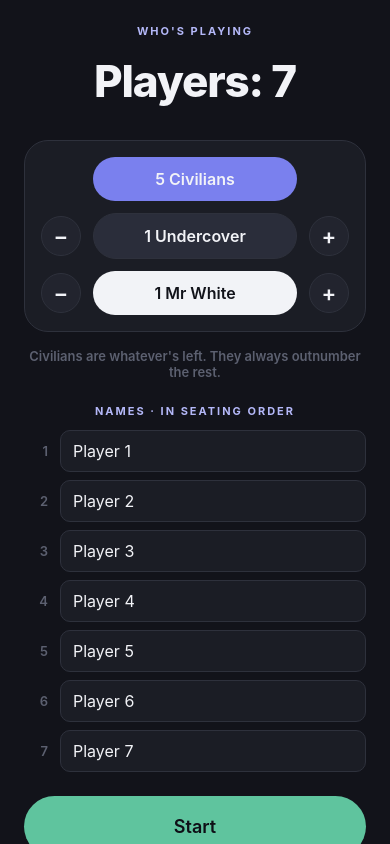
Scenario: setup — counts › S3 adding an undercover takes it from the civilians
This screenshot has width=390, height=844.
Click the button with test id "setup-undercover-inc": point(329, 236) [309, 216, 349, 256]
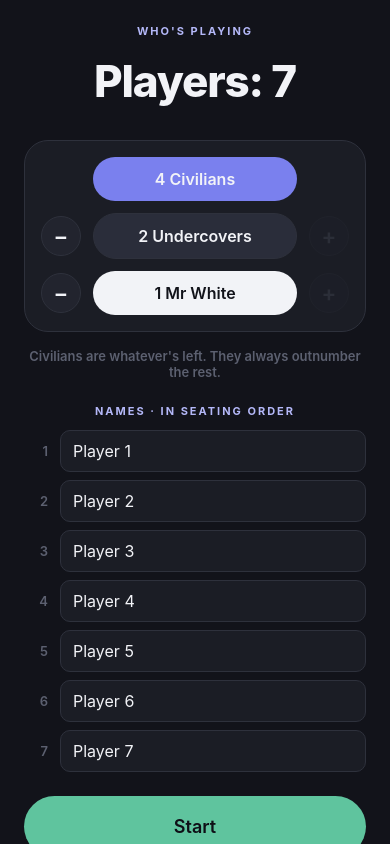
Expected: the text with test id "setup-undercover-count" reads "2 Undercovers", [138, 226, 252, 246]
Expected: the text with test id "setup-civilians" reads "4 Civilians", [155, 169, 235, 189]
